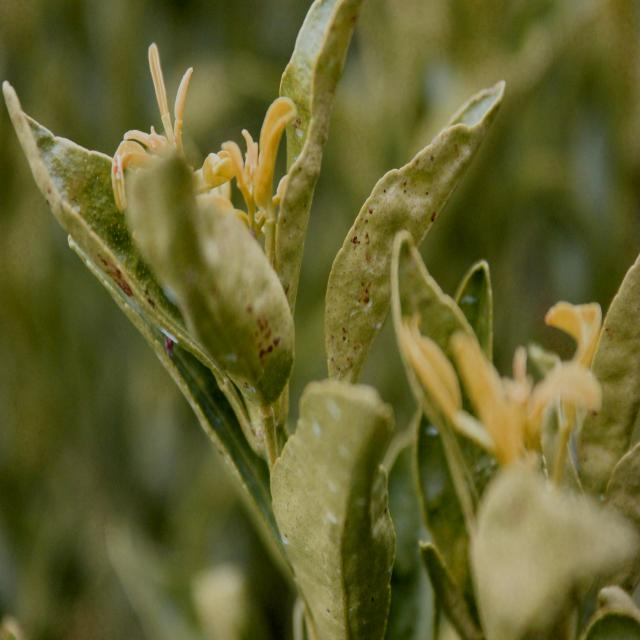canker: (339, 188, 398, 274), (247, 285, 288, 374), (102, 249, 154, 307)
